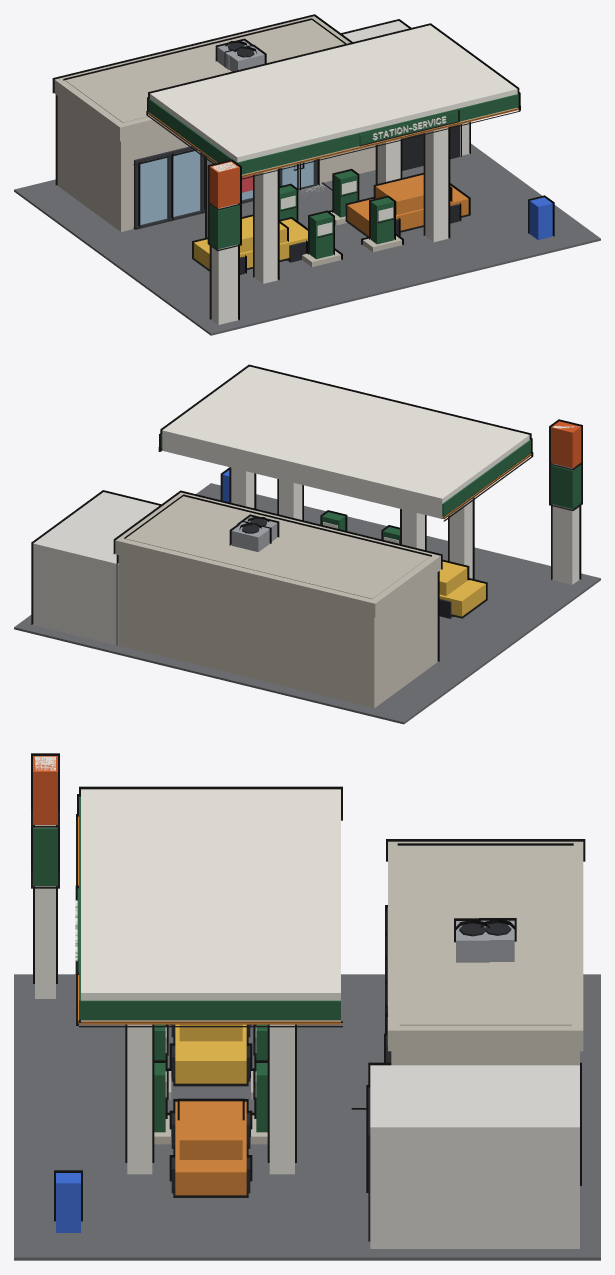
The model's file is Dukkan_cadde_benzinlik.fbx.
3 views of the same model, one above another, from view 1: azimuth 30°, elevation 25°; view 2: azimuth 150°, elevation 25°; view 3: azimuth 270°, elevation 25° (orthographic). The views are drawn at different scales.
Parts seen in each view (by area): view 1: Dukkan_cadde_benzinlik; view 2: Dukkan_cadde_benzinlik; view 3: Dukkan_cadde_benzinlik.
Part boxes in pixels (bbox=[...]): Dukkan_cadde_benzinlik: bbox=[14, 14, 600, 335]; Dukkan_cadde_benzinlik: bbox=[14, 364, 600, 724]; Dukkan_cadde_benzinlik: bbox=[14, 753, 600, 1260].
Size of the model in its own units: 16 by 6.22 by 14.
